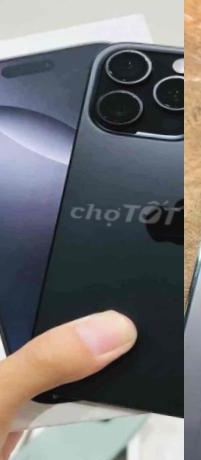scratch: (184, 314, 201, 460)
